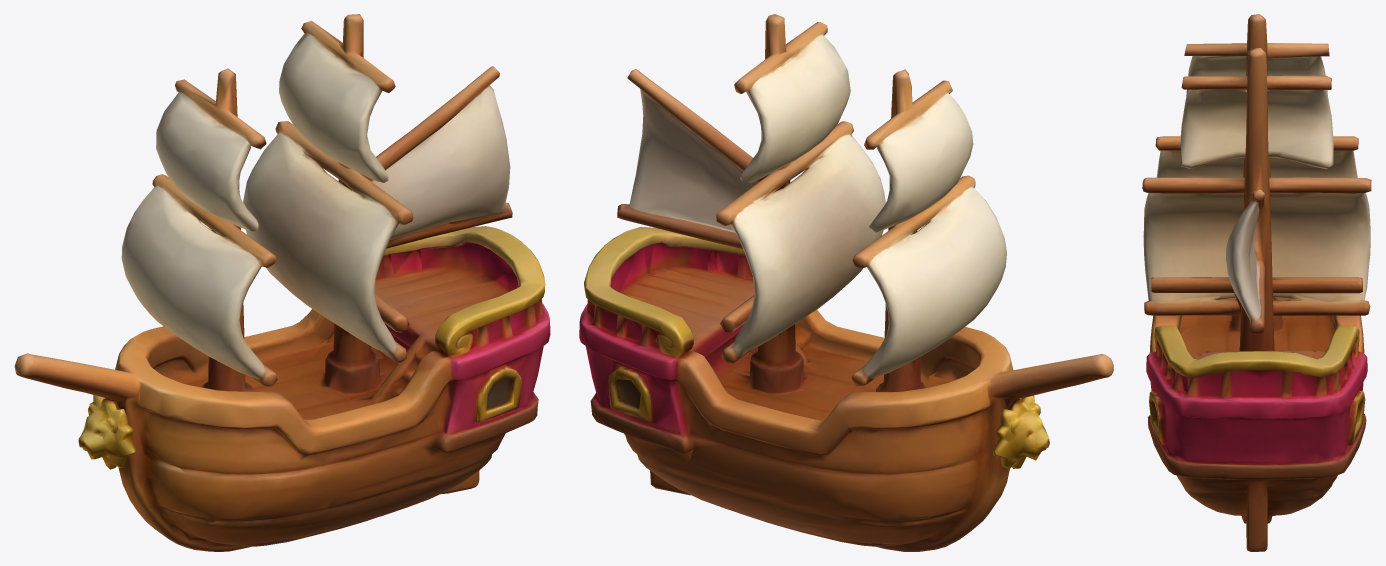
File: boss-flagship.glb
The picture shows the model from 3 angles, left to right: view 1: azimuth 30°, elevation 25°; view 2: azimuth 150°, elevation 25°; view 3: azimuth 270°, elevation 25°; orthographic projection. The views are drawn at different scales.
Parts seen in each view (by area): view 1: boss-flagship; view 2: boss-flagship; view 3: boss-flagship.
Part boxes in pixels (bbox=[...]): boss-flagship: bbox=[14, 14, 550, 551]; boss-flagship: bbox=[579, 14, 1113, 551]; boss-flagship: bbox=[1142, 14, 1371, 551].
Size of the model in its own units: 9.2 by 8.72 by 3.99.
Materials: 1 (1 with a texture image).
